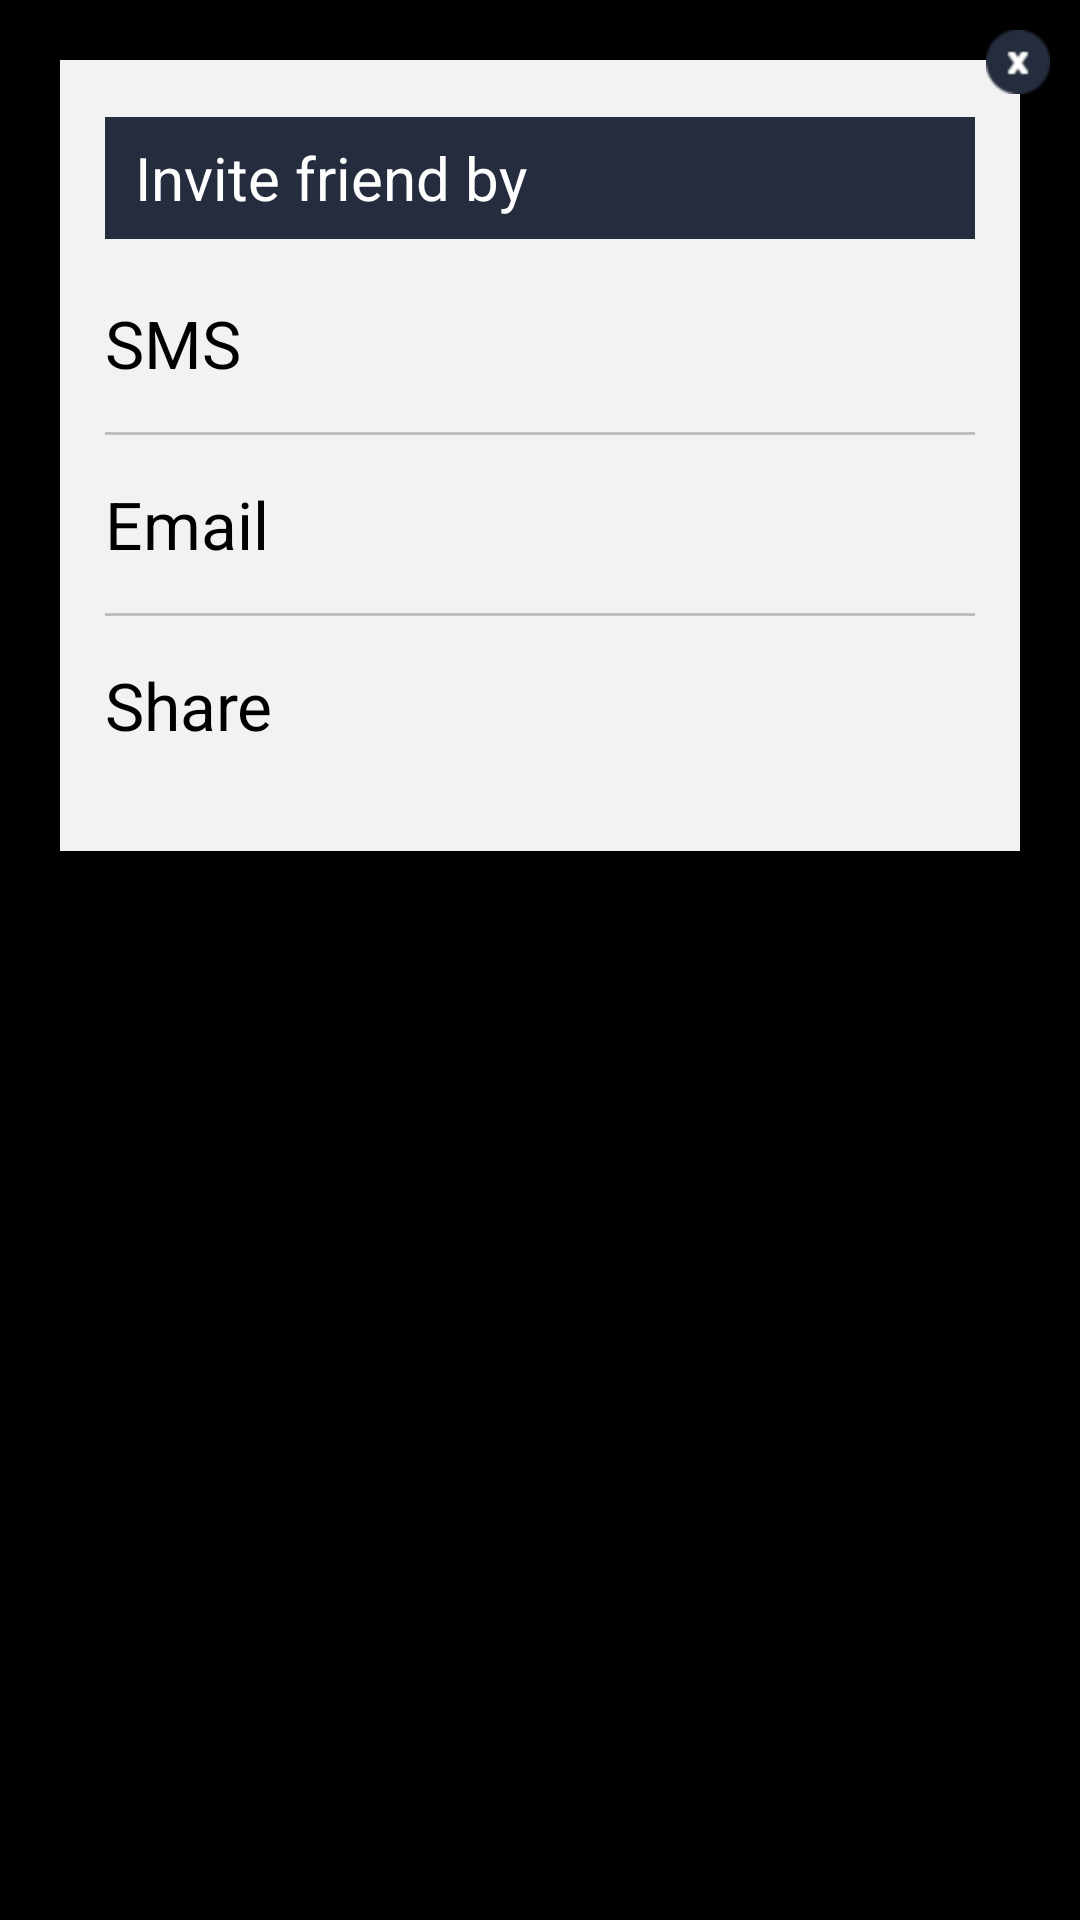

Icon bounding boxes for this 1080*1920 phone screenshot, format detection(x1, y1, x2, y2):
cross: detection(986, 30, 1050, 94)
